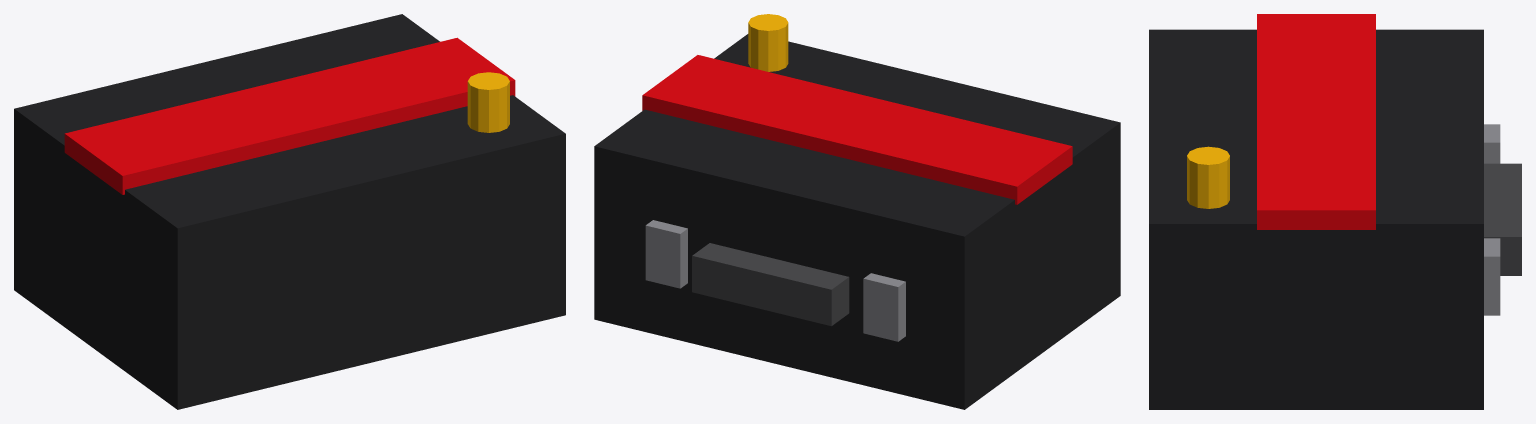
The model's file is flight_recorder_case.glb.
3 views of the same model, side by side, from view 1: azimuth 30°, elevation 25°; view 2: azimuth 150°, elevation 25°; view 3: azimuth 270°, elevation 25° (orthographic). The views are drawn at different scales.
Visible parts, largest first — view 1: FlightRecorder_Body, FlightRecorder_CrimsonBand, FlightRecorder_Beacon; view 2: FlightRecorder_Body, FlightRecorder_CrimsonBand, FlightRecorder_Handle, FlightRecorder_Latch_0, FlightRecorder_Latch_1, FlightRecorder_Beacon; view 3: FlightRecorder_Body, FlightRecorder_CrimsonBand, FlightRecorder_Handle, FlightRecorder_Beacon, FlightRecorder_Latch_1, FlightRecorder_Latch_0.
Boxes of the visible parts, x1,y1,x2,y2 form: FlightRecorder_Body: [14, 14, 565, 409]; FlightRecorder_CrimsonBand: [64, 37, 515, 194]; FlightRecorder_Beacon: [467, 72, 509, 132]; FlightRecorder_Body: [594, 34, 1120, 409]; FlightRecorder_CrimsonBand: [642, 55, 1072, 204]; FlightRecorder_Handle: [692, 243, 849, 326]; FlightRecorder_Latch_0: [863, 273, 905, 341]; FlightRecorder_Latch_1: [645, 220, 687, 288]; FlightRecorder_Beacon: [748, 14, 788, 71]; FlightRecorder_Body: [1149, 29, 1483, 409]; FlightRecorder_CrimsonBand: [1257, 14, 1375, 229]; FlightRecorder_Handle: [1484, 163, 1521, 275]; FlightRecorder_Beacon: [1187, 146, 1229, 208]; FlightRecorder_Latch_1: [1484, 238, 1500, 315]; FlightRecorder_Latch_0: [1484, 124, 1500, 163].
Size of the model in its own units: 0.86 by 0.47 by 0.69.
